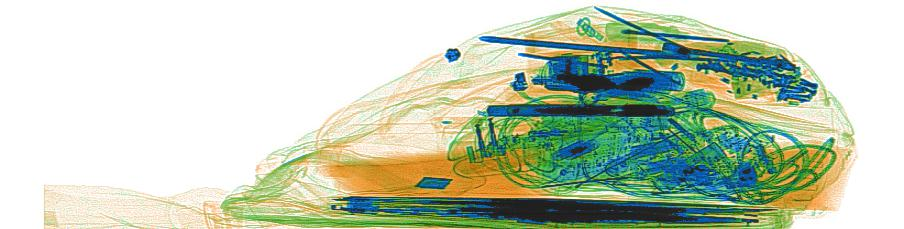battery: (649, 140, 729, 193), (589, 67, 686, 94), (554, 136, 602, 166), (630, 137, 677, 158)
